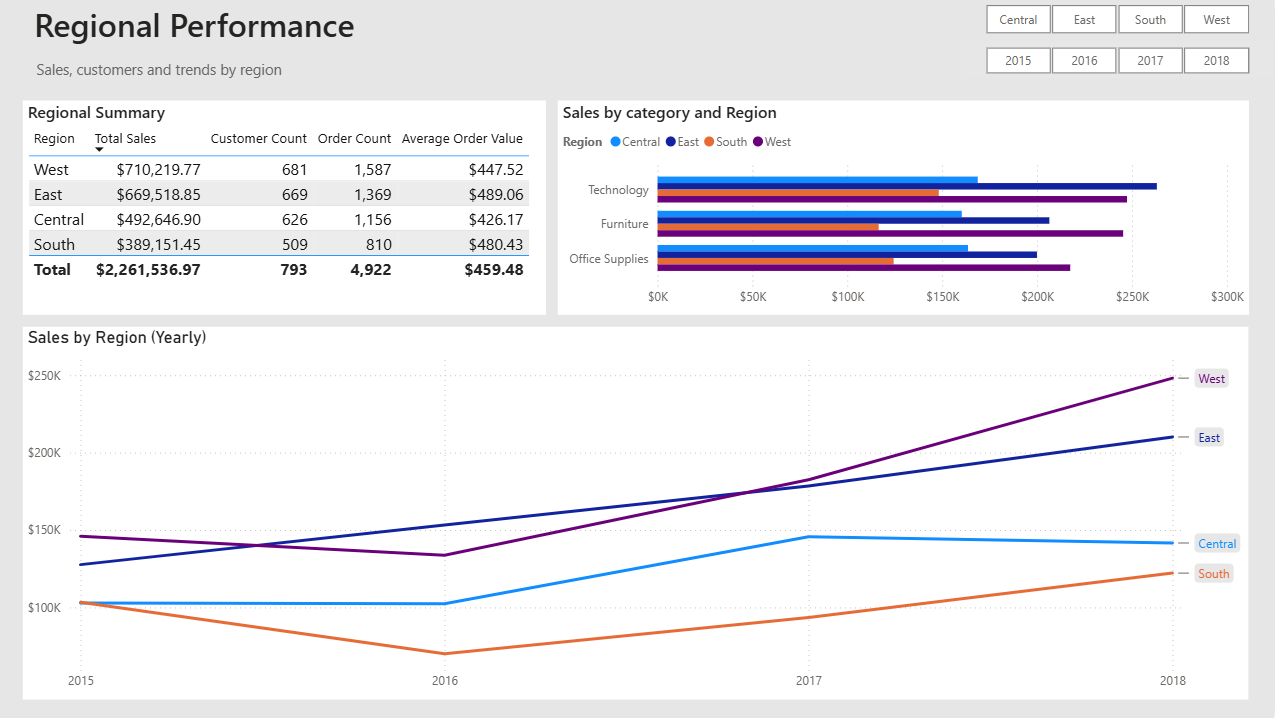

The dashboard page shown, as its layout file describes it:
{"tool":"powerbi","page":{"name":"Regional","canvas":[1280,720],"ordinal":1},"visuals":[{"type":"textbox","box":[0,0,400.5,67.6],"z":0},{"type":"textbox","box":[37.4,56.7,259.4,45.8],"z":1000},{"type":"slicer","fields":{"Values":["orders.region"]},"box":[966.4,0,312.5,42.2],"z":2000},{"type":"slicer","fields":{"Values":["dim_date.Year"]},"box":[966.4,42.2,312.5,37.4],"z":3000},{"type":"tableEx","title":"Regional Summary","fields":{"Values":["orders.region","_Measures.Total Sales","_Measures.Customer Count","_Measures.Order Count","_Measures.Average Order Value"]},"box":[29,102.5,523.6,214.7],"z":4000},{"type":"lineChart","title":"Sales by Region (Yearly)","fields":{"Category":["dim_date.Year"],"Y":["_Measures.Total Sales"],"Series":["orders.region"]},"box":[29,329.4,1225.7,372.8],"z":5000},{"type":"clusteredBarChart","title":"Sales by category and Region","fields":{"Category":["orders.category"],"Y":["_Measures.Total Sales"],"Series":["orders.region"]},"box":[563.4,102.5,691.3,214.7],"z":6000}]}

Visuals, with their boxes in screenshot pixels (x1, y1, x2, y2), scaled from the page's 1280x720 canvas onto the 1275x718 screenshot:
textbox: Rect(0, 0, 399, 67)
textbox: Rect(37, 57, 296, 102)
slicer - orders.region: Rect(963, 0, 1274, 42)
slicer - dim_date.Year: Rect(963, 42, 1274, 79)
"Regional Summary" tableEx: Rect(29, 102, 550, 316)
"Sales by Region (Yearly)" lineChart: Rect(29, 328, 1250, 700)
"Sales by category and Region" clusteredBarChart: Rect(561, 102, 1250, 316)
